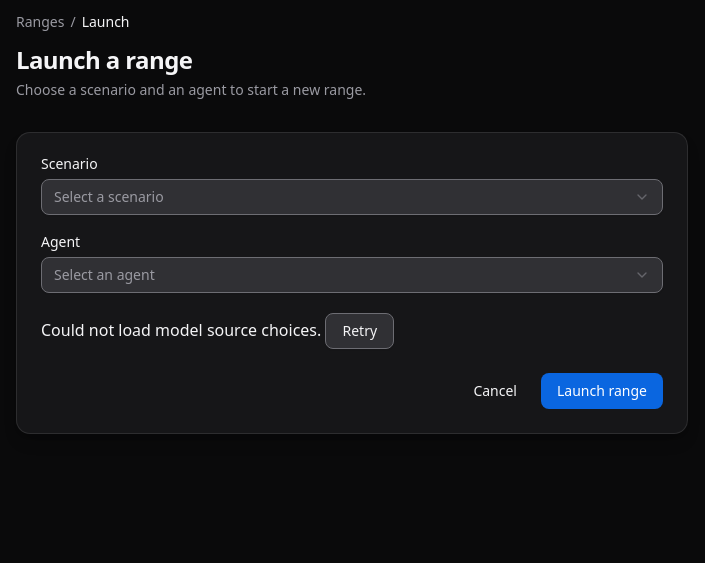
Test: RangeLaunchPage › shows a server error without retrying automatically
Click the dropdown labelled "scenario": (109, 196) [41,179,663,215]
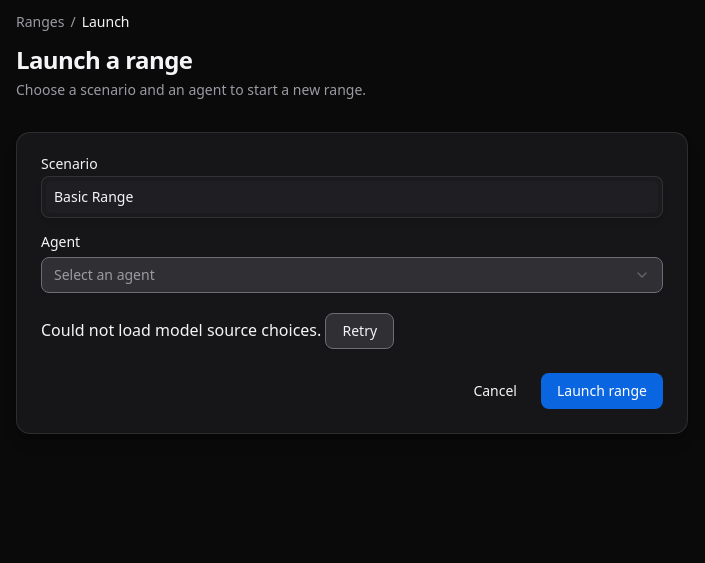
Click the option "Basic Range": (94, 196) [46,181,658,213]
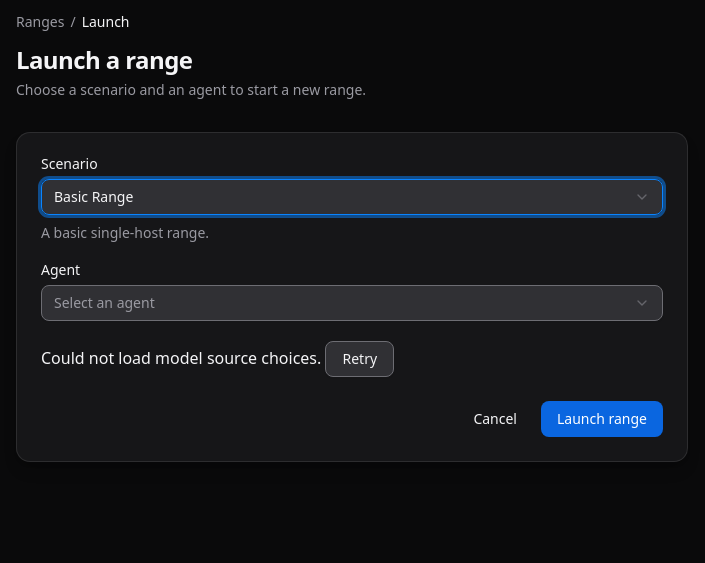
Click the dropdown labelled "agent": (104, 302) [41,285,663,321]
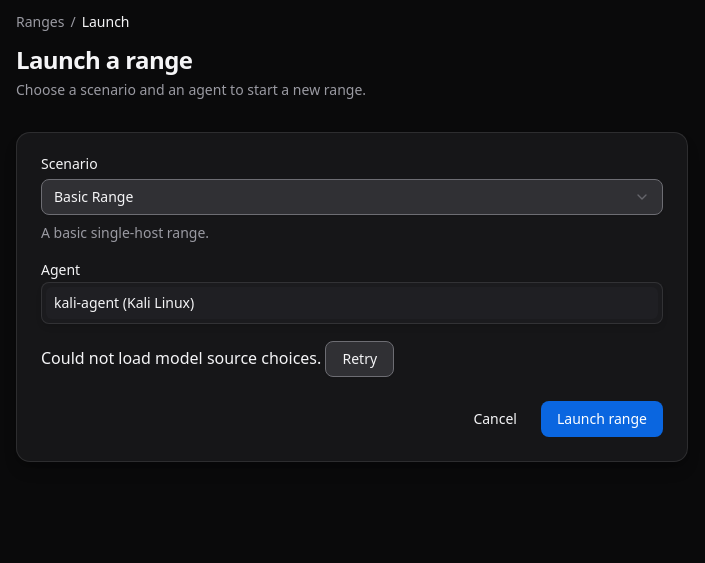
Click the option "kali-agent (Kali Linux)": (87, 302) [46,287,658,319]
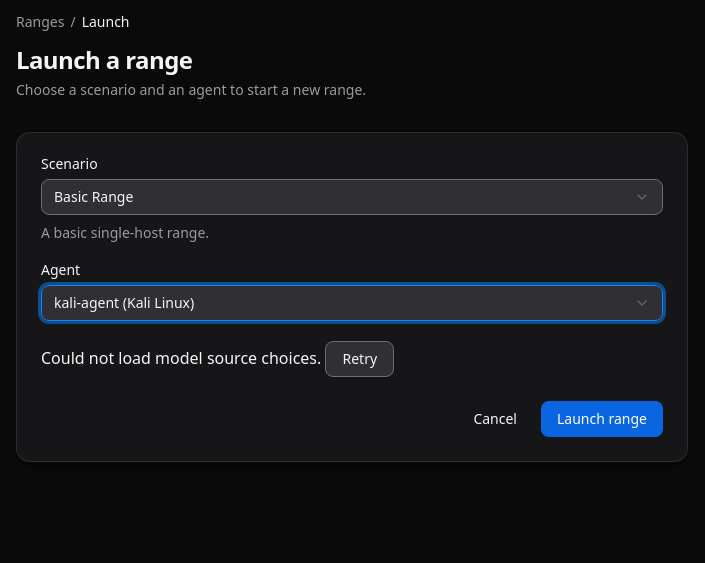
Click the button "Launch range": (602, 419) [541,401,663,437]
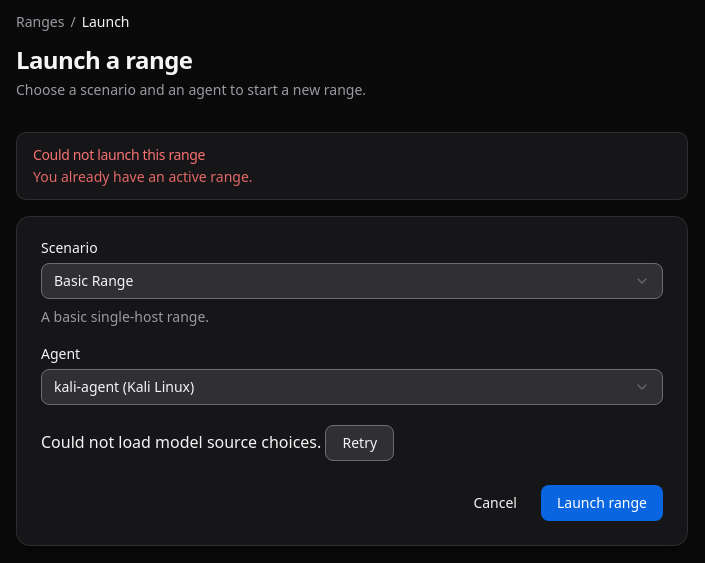
Check: the text "You already have an active range." is shown, box [33,167,253,186]
